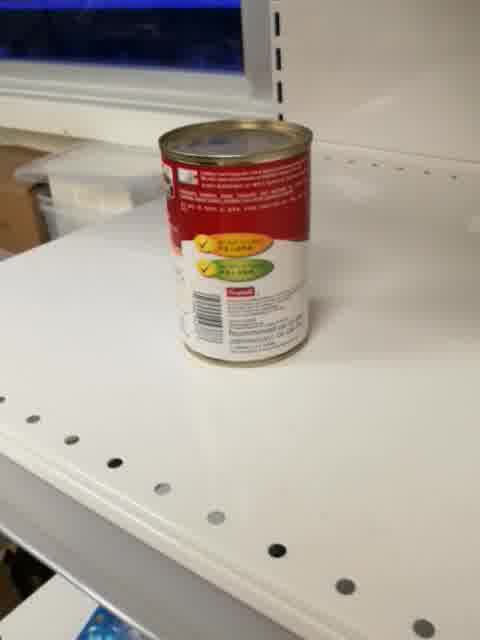tomatosoup: (156, 117, 316, 370)
